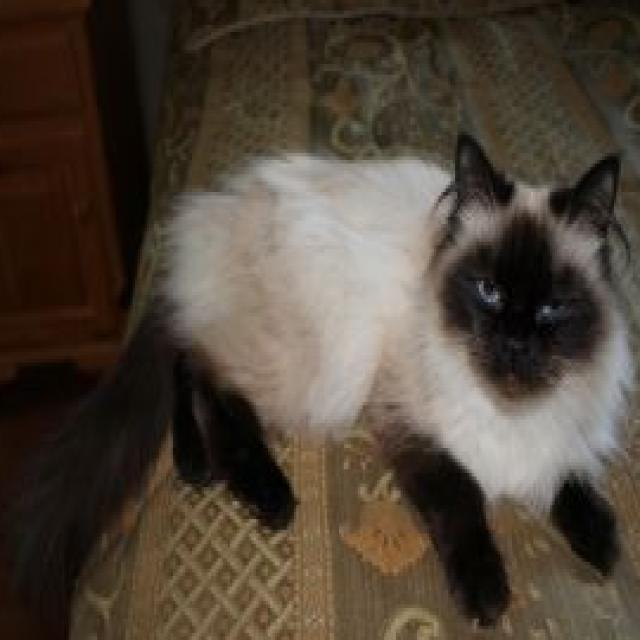Birman: (5, 122, 630, 634)
